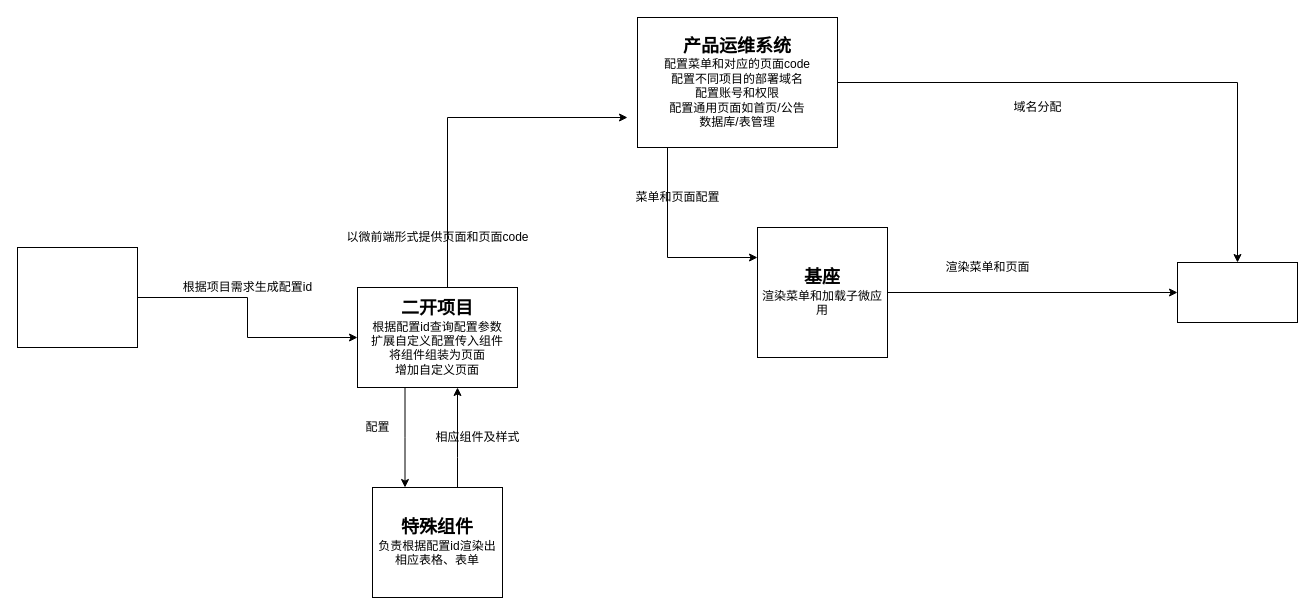
Image size: 1315x615. Some labels were removed from this diagram. The centre of each missing label's shape, as x and y in pixels:
"交付产品" belongs at (1237,292).
"配置系统 负责配置表格、表单、按钮及其样式、布局、api、字段、action等" belongs at (77,297).
